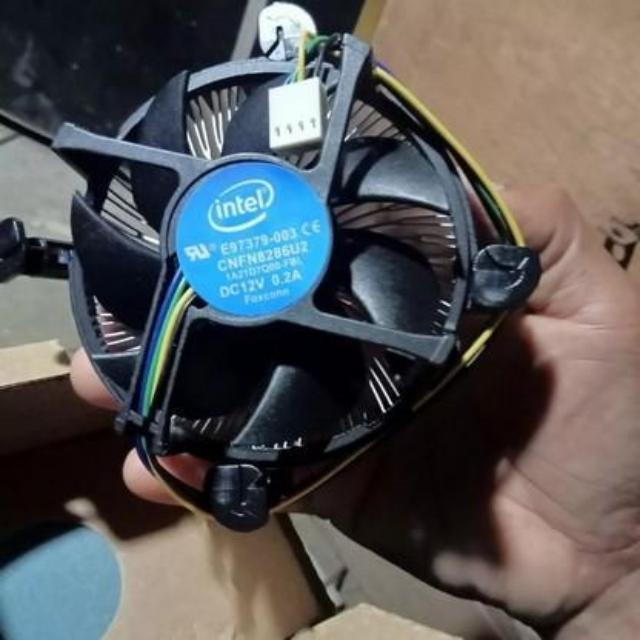CPU_Fan: (4, 0, 538, 529)
